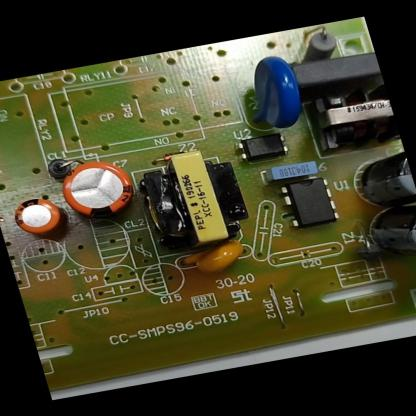Cap1: (48, 152, 149, 228)
Cap2: (2, 190, 74, 245)
Cap3: (344, 147, 416, 215)
Cap4: (354, 198, 416, 277)
MOSFET: (270, 171, 344, 236)
Mov: (226, 51, 314, 139)
Resistor: (286, 22, 344, 66)
Transformer: (131, 142, 258, 258), (301, 80, 401, 157)
